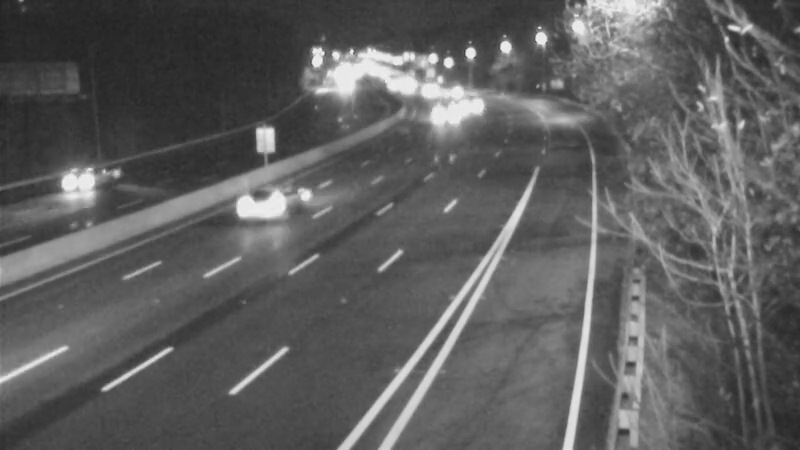vehicle: (238, 156, 318, 236), (36, 147, 116, 227), (449, 82, 499, 132), (418, 89, 468, 139)
